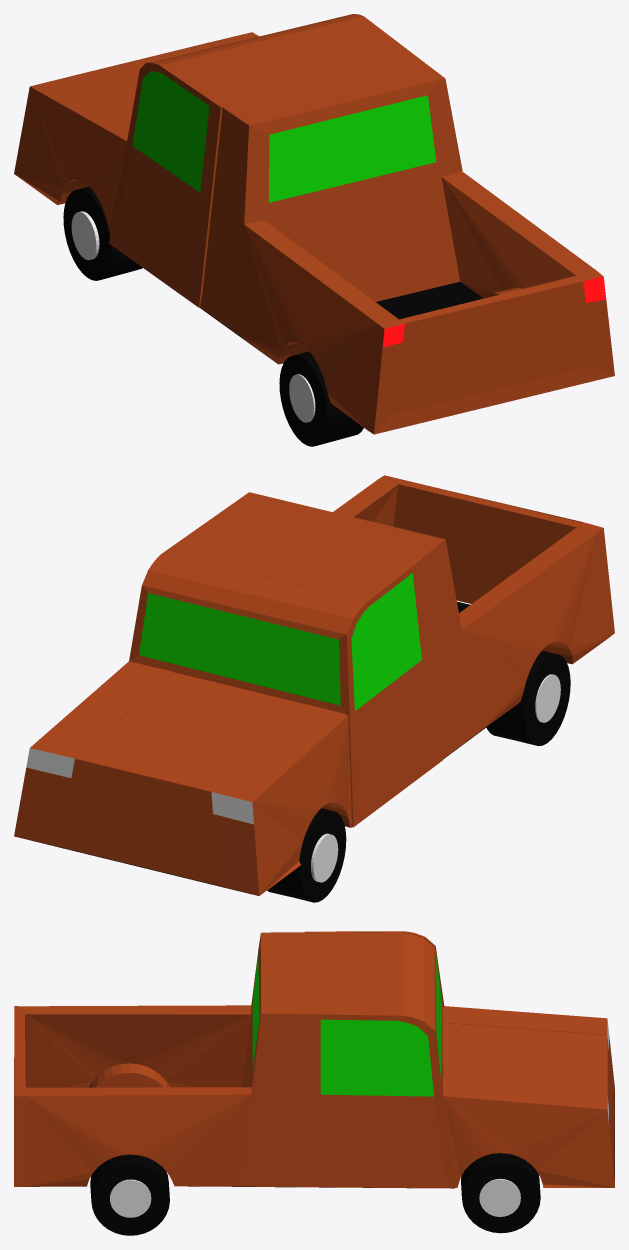
File: Car_open.fbx
3 views of the same model, one above another, from view 1: azimuth 30°, elevation 25°; view 2: azimuth 150°, elevation 25°; view 3: azimuth 270°, elevation 25° (orthographic). The views are drawn at different scales.
Visible parts, largest first — view 1: Cube, Cube.001; view 2: Cube, Cube.001; view 3: Cube.
Boxes of the visible parts, <box> form: Cube: <box>14,14,614,446</box>; Cube.001: <box>109,62,223,307</box>; Cube: <box>14,475,614,902</box>; Cube.001: <box>343,558,443,827</box>; Cube: <box>14,932,614,1235</box>.
Size of the model in its own units: 223 by 220 by 559.
